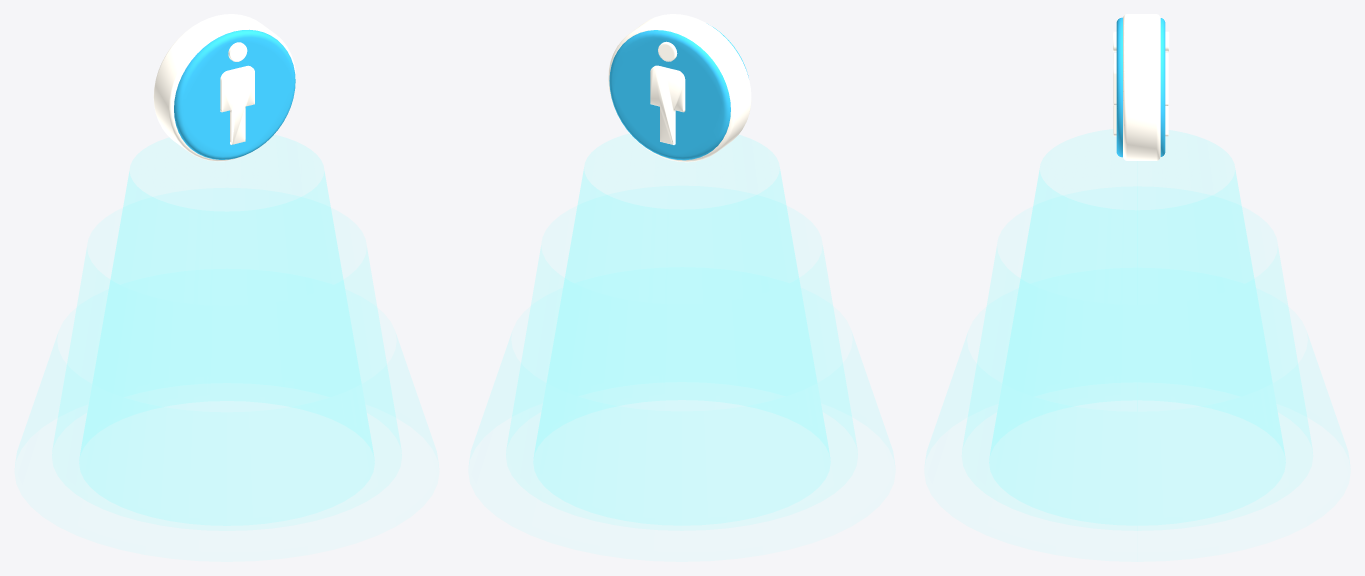
Rendered from dpwii_parcial2_marcadores_persona.glb.
3 renders of one model, left to right at view 1: azimuth 30°, elevation 25°; view 2: azimuth 150°, elevation 25°; view 3: azimuth 270°, elevation 25°, orthographic.
Visible parts, largest first — view 1: marcador_persona_01, marcador_persona_02, Cylinder, Cylinder.001, persona_cuerpo; view 2: marcador_persona_01, marcador_persona_02, Cylinder, Cylinder.001, persona_cuerpo; view 3: marcador_persona_01, marcador_persona_02, Cylinder.001, Cylinder, persona_cuerpo.
Boxes of the visible parts, <box> form: marcador_persona_01: <box>80,135,373,455</box>; marcador_persona_02: <box>53,250,400,446</box>; Cylinder: <box>174,29,295,159</box>; Cylinder.001: <box>153,14,295,161</box>; persona_cuerpo: <box>220,65,254,144</box>; marcador_persona_01: <box>534,134,829,456</box>; marcador_persona_02: <box>507,246,856,445</box>; Cylinder: <box>609,24,748,160</box>; Cylinder.001: <box>608,14,751,162</box>; persona_cuerpo: <box>650,65,685,144</box>; marcador_persona_01: <box>990,129,1284,455</box>; marcador_persona_02: <box>963,249,1311,445</box>; Cylinder.001: <box>1123,14,1160,160</box>; Cylinder: <box>1116,17,1165,157</box>; persona_cuerpo: <box>1113,53,1168,136</box>.
Bounding box in the file's own units: 6.11 × 7.12 × 6.11.
